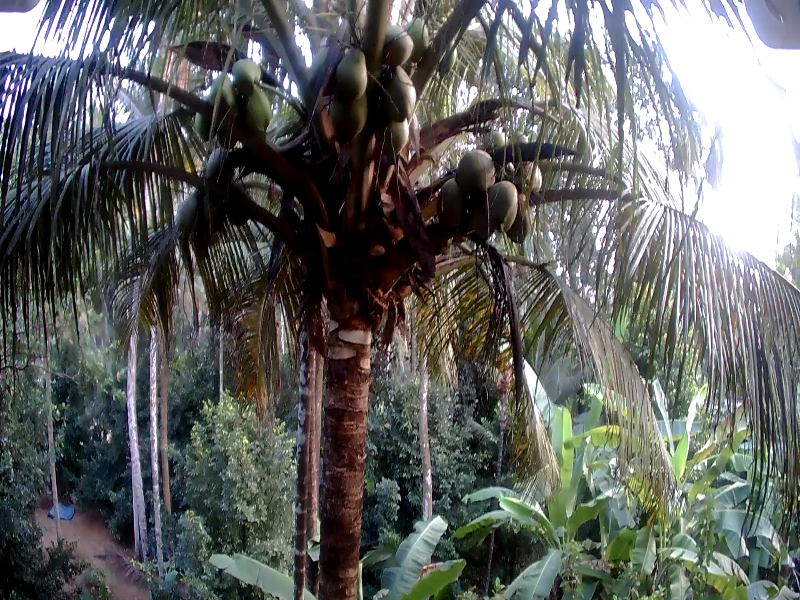coconut: (330, 50, 371, 93), (176, 191, 215, 230), (484, 181, 517, 227), (461, 144, 492, 191), (323, 97, 361, 134), (201, 142, 232, 187), (191, 93, 219, 142), (237, 92, 268, 136), (380, 26, 413, 65), (376, 66, 413, 93), (377, 116, 404, 151), (431, 35, 457, 71), (227, 51, 255, 81), (521, 162, 545, 195), (482, 131, 508, 160), (401, 20, 421, 54)
